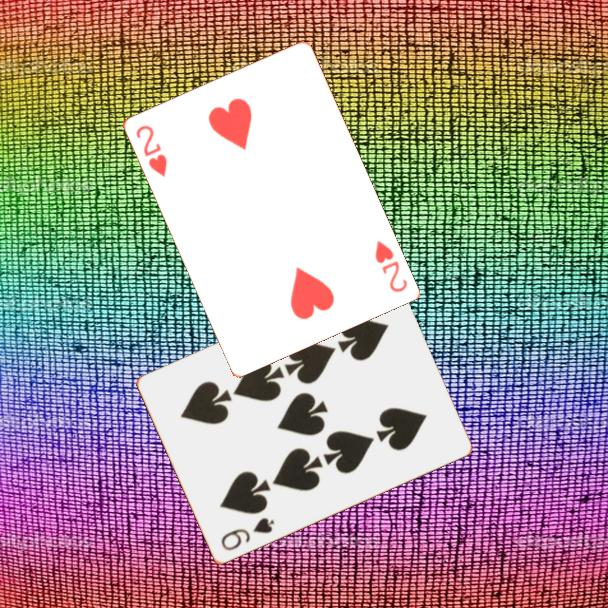h02: (371, 237, 410, 295), (132, 121, 170, 180)
s09: (217, 514, 277, 554)
